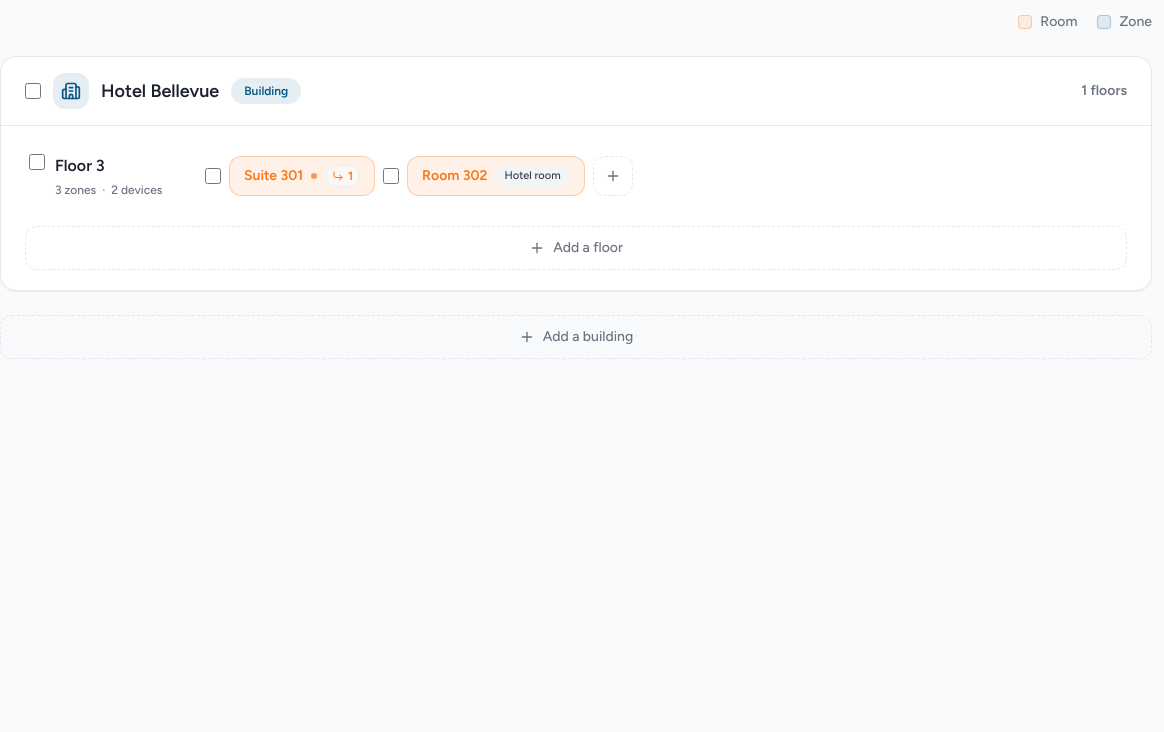
Scenario: AssetTree bulk classification › marks the ancestors of a partial selection as indeterminate
Step 1. Click the checkbox named "Select Room 302" → (391, 176), box [383, 168, 399, 184]
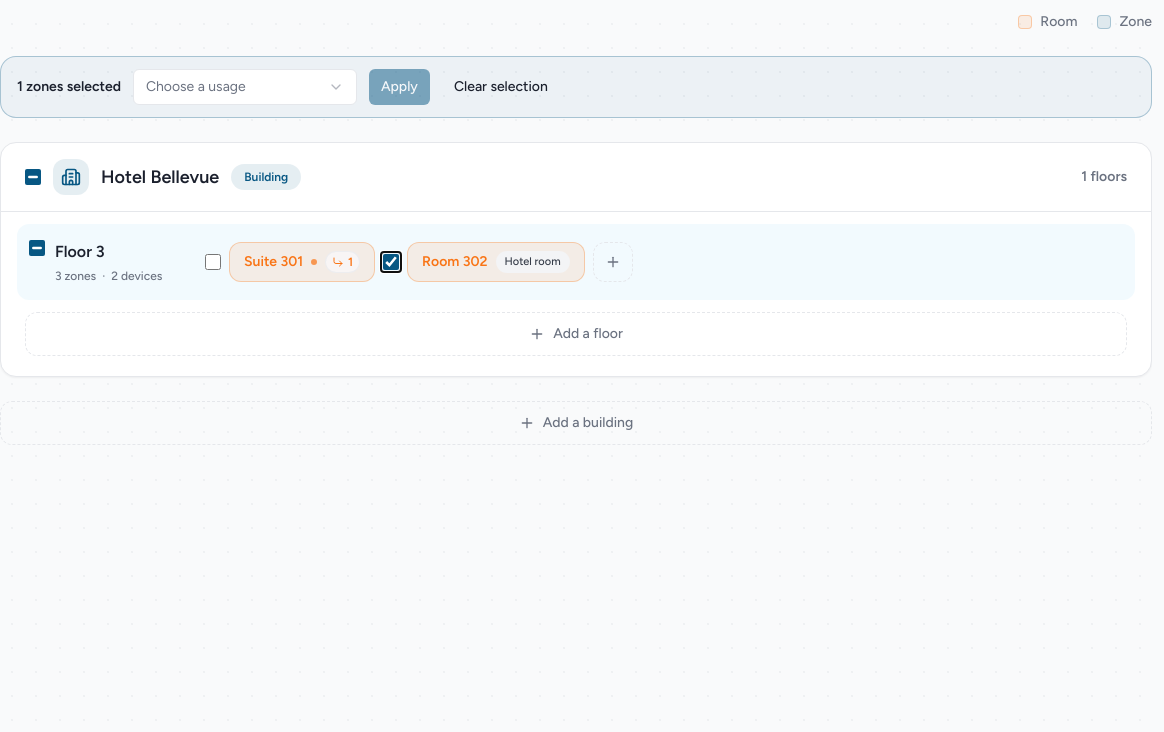
Expected: the checkbox named "Select every zone of Suite 301" is not checked, [205, 254, 221, 270]
Now the element "1 zones selected" is shown, box [0, 56, 1152, 118]
